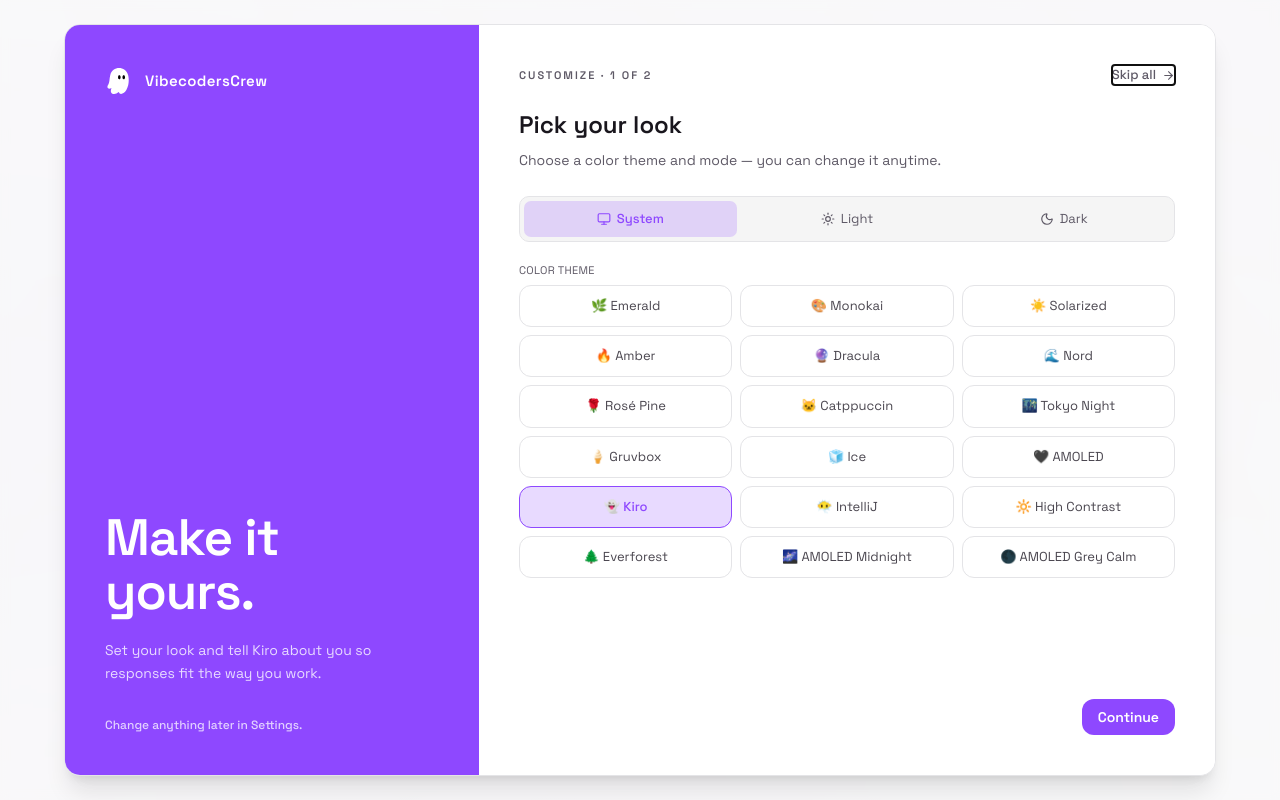
Scenario: OnboardingFlow — About You step › step 1 → Next shows the About You modal with role and technical options
The image size is (1280, 800).
Expected: the heading "Pick your look" is shown, [519,109,682,140]
Click the button "Continue".
click(1128, 717)  # box [1082,699,1175,735]
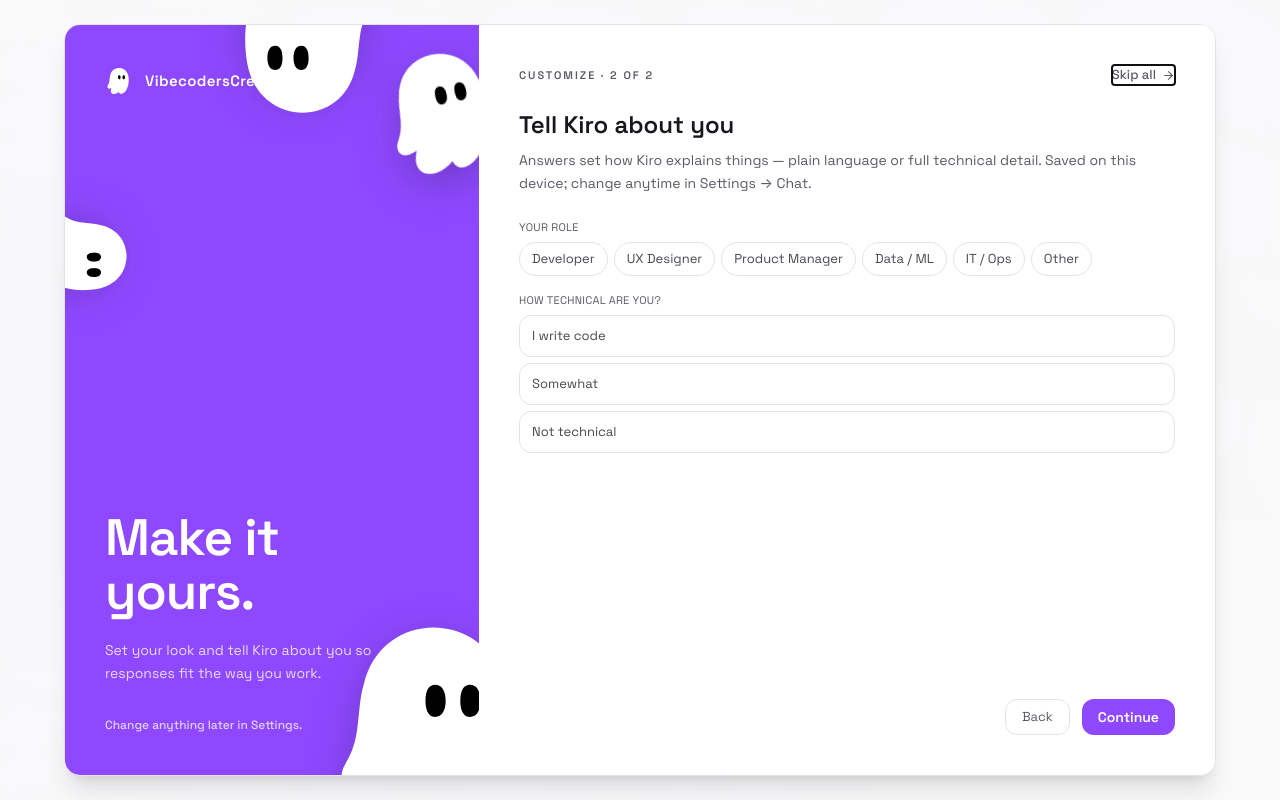
Expected: the heading "Tell Kiro about you" is shown, [519,109,734,140]
Expected: the text "Your role" is shown, [519,220,579,234]
Expected: the button "UX Designer" is shown, [614,242,715,276]
